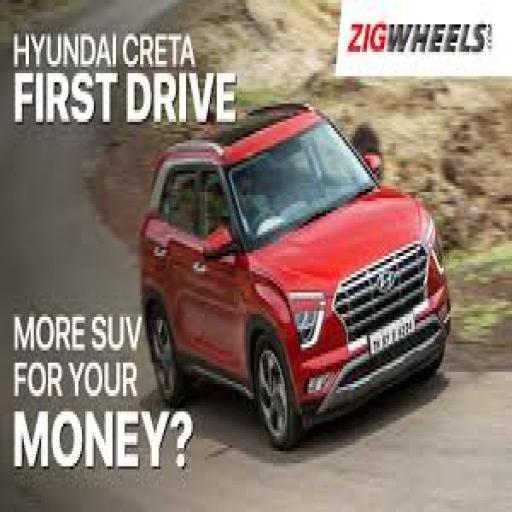car: (143, 93, 474, 463)
